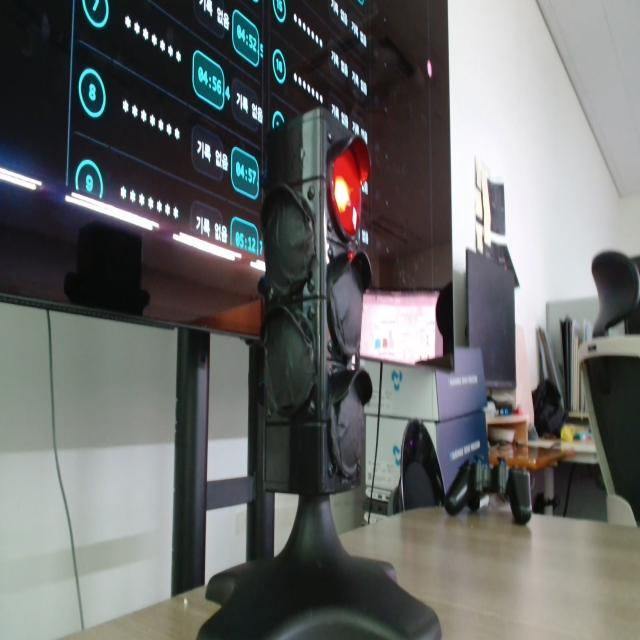red_light: (332, 138, 369, 238), (333, 149, 361, 237)
